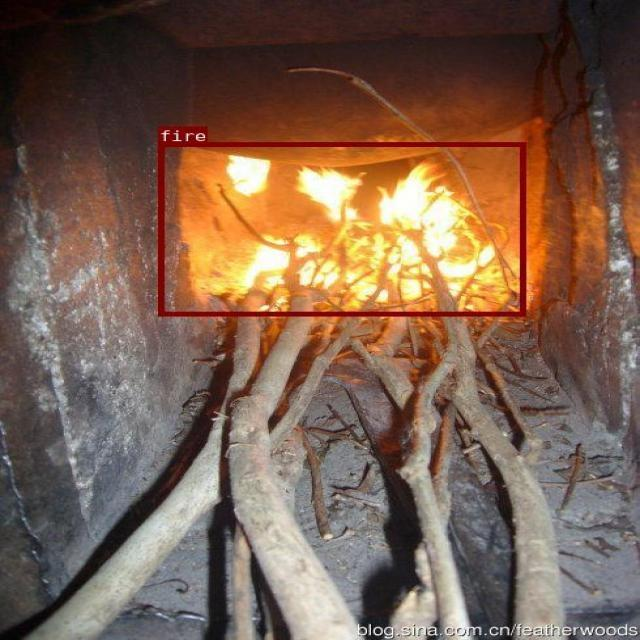fire: (158, 141, 525, 315)
